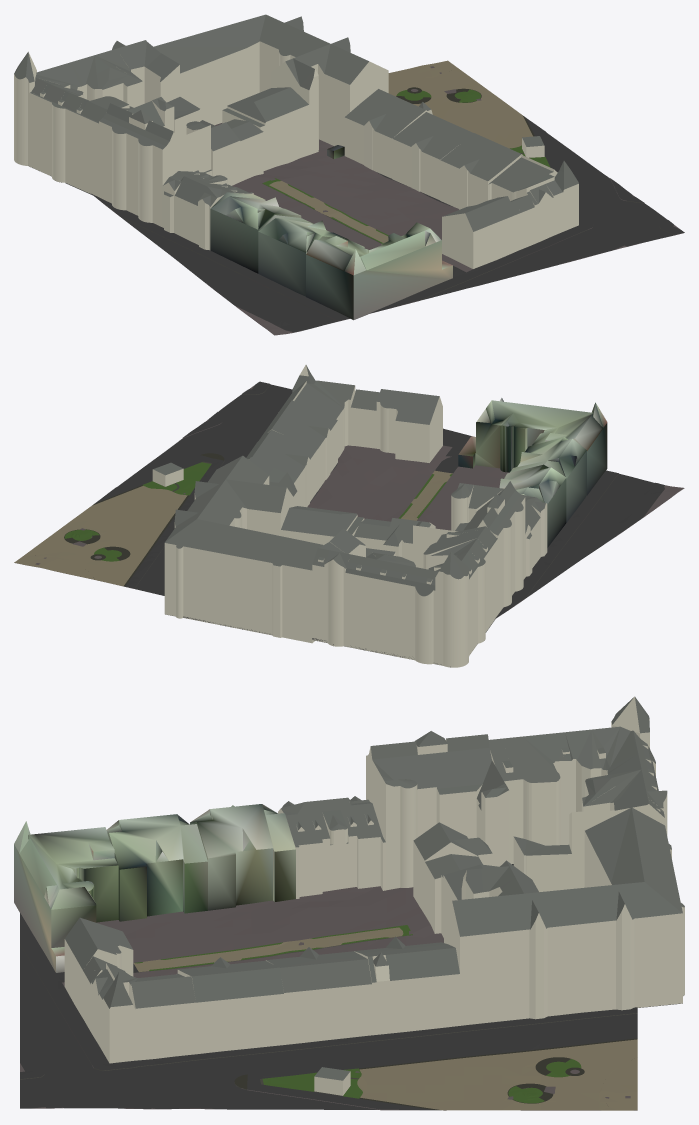
3 renders of one model, top to bottom at view 1: azimuth 30°, elevation 25°; view 2: azimuth 150°, elevation 25°; view 3: azimuth 270°, elevation 25°, orthographic. The views are drawn at different scales.
Visible parts, largest first — view 1: c_m04_p10; view 2: c_m04_p10; view 3: c_m04_p10.
Boxes of the visible parts, bbox=[...] form: c_m04_p10: bbox=[14, 14, 684, 335]; c_m04_p10: bbox=[14, 365, 684, 667]; c_m04_p10: bbox=[14, 696, 684, 1110].
Size of the model in its own units: 135 by 34.59 by 139.
